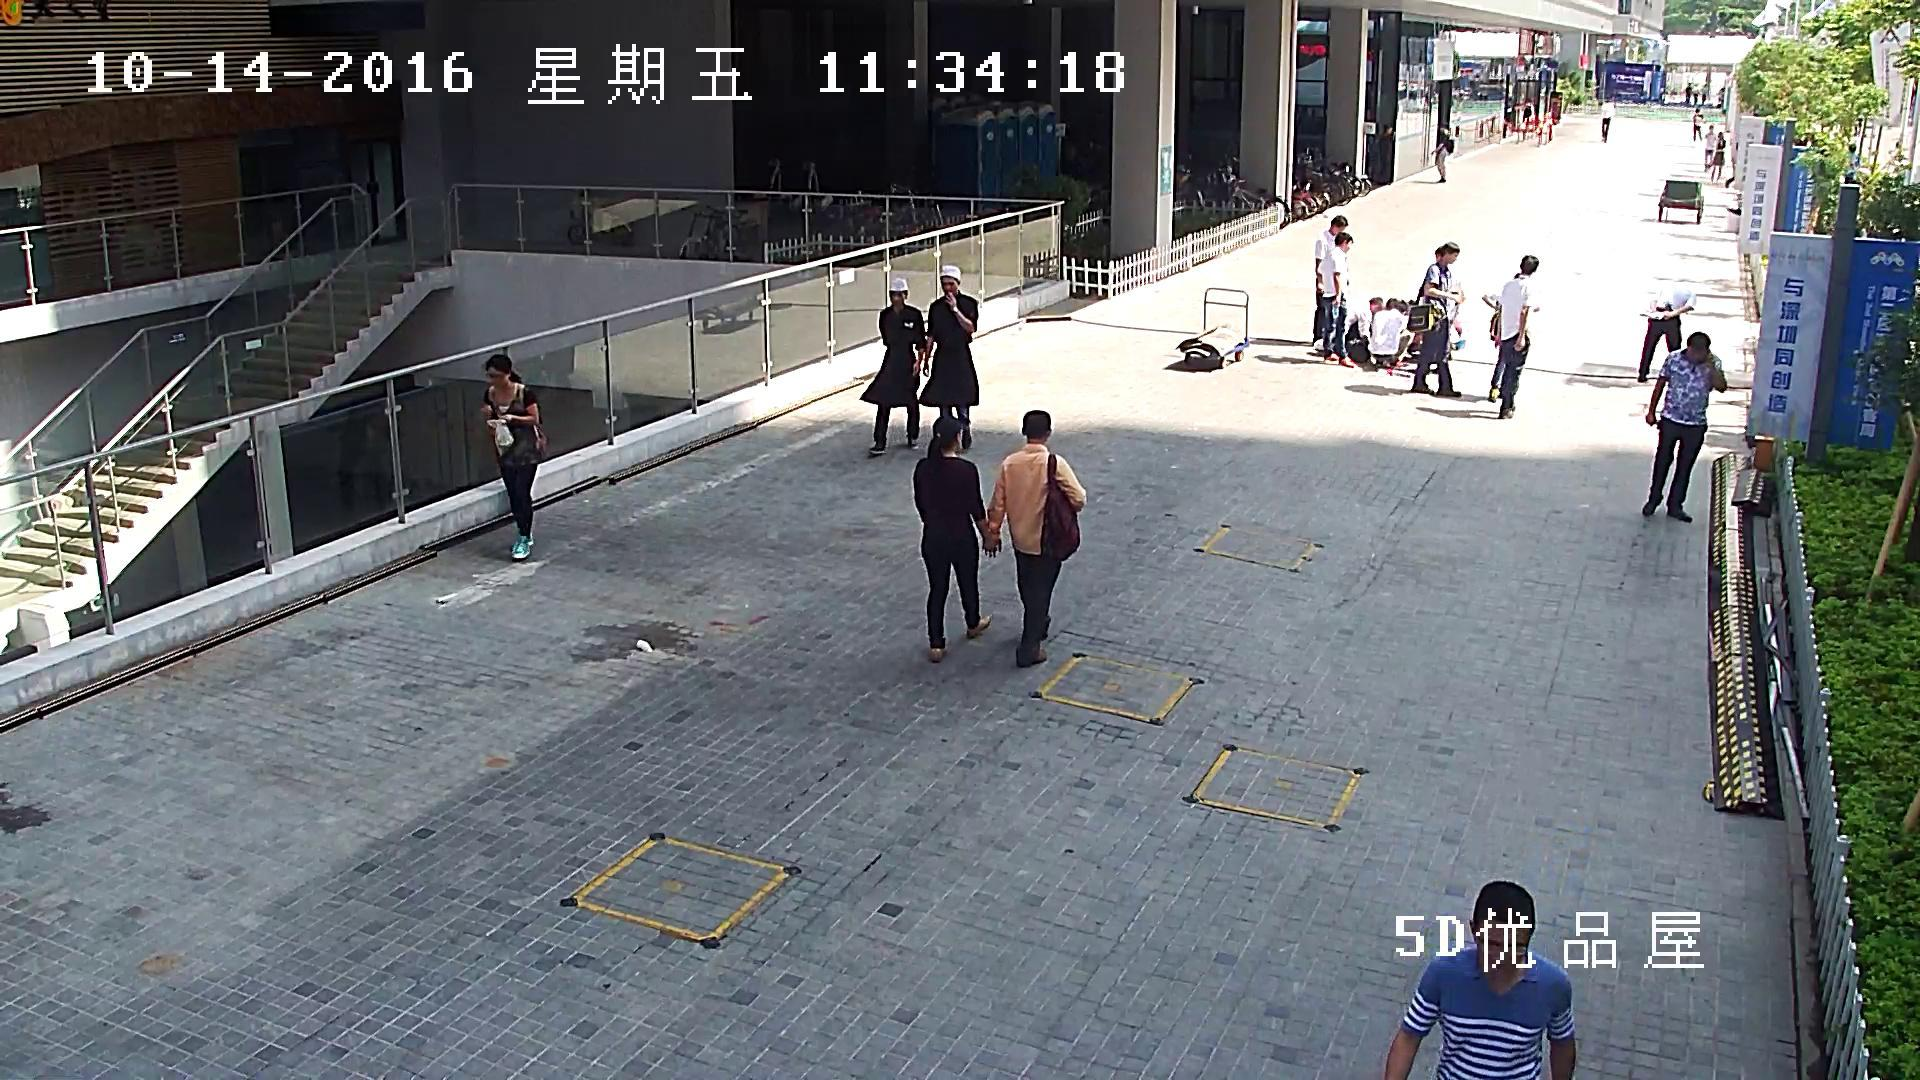person: (1383, 880, 1575, 1080), (986, 410, 1086, 666), (913, 416, 999, 664), (1642, 332, 1727, 522), (480, 354, 547, 560), (858, 278, 925, 454), (919, 265, 979, 449), (1406, 242, 1465, 397), (1498, 255, 1538, 419), (1637, 289, 1696, 382), (1316, 232, 1354, 368), (1482, 273, 1520, 401), (1313, 215, 1349, 346), (1371, 298, 1410, 371), (1344, 297, 1383, 353), (1431, 123, 1453, 182), (1378, 123, 1393, 184), (1598, 97, 1614, 143), (1710, 131, 1724, 180), (1703, 126, 1716, 167), (1692, 108, 1703, 141), (1685, 83, 1692, 104), (1701, 83, 1706, 106), (1693, 84, 1698, 104)
